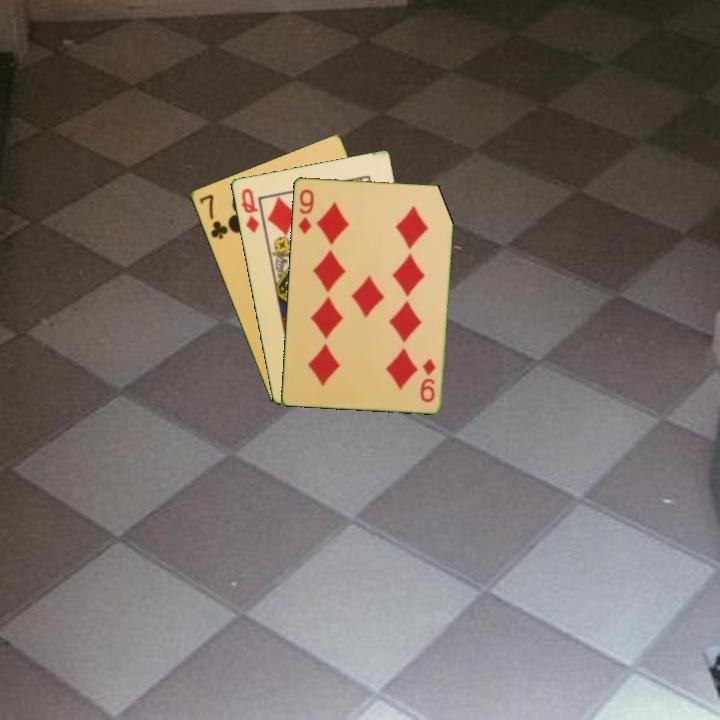7c: (196, 190, 230, 242)
9d: (295, 185, 317, 236), (416, 355, 438, 405)
Qd: (237, 185, 261, 235)
